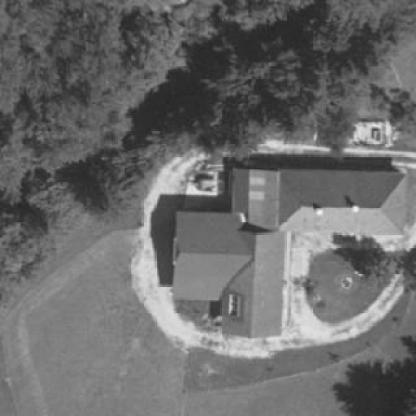solar-pv-panel: (227, 295, 239, 315)
